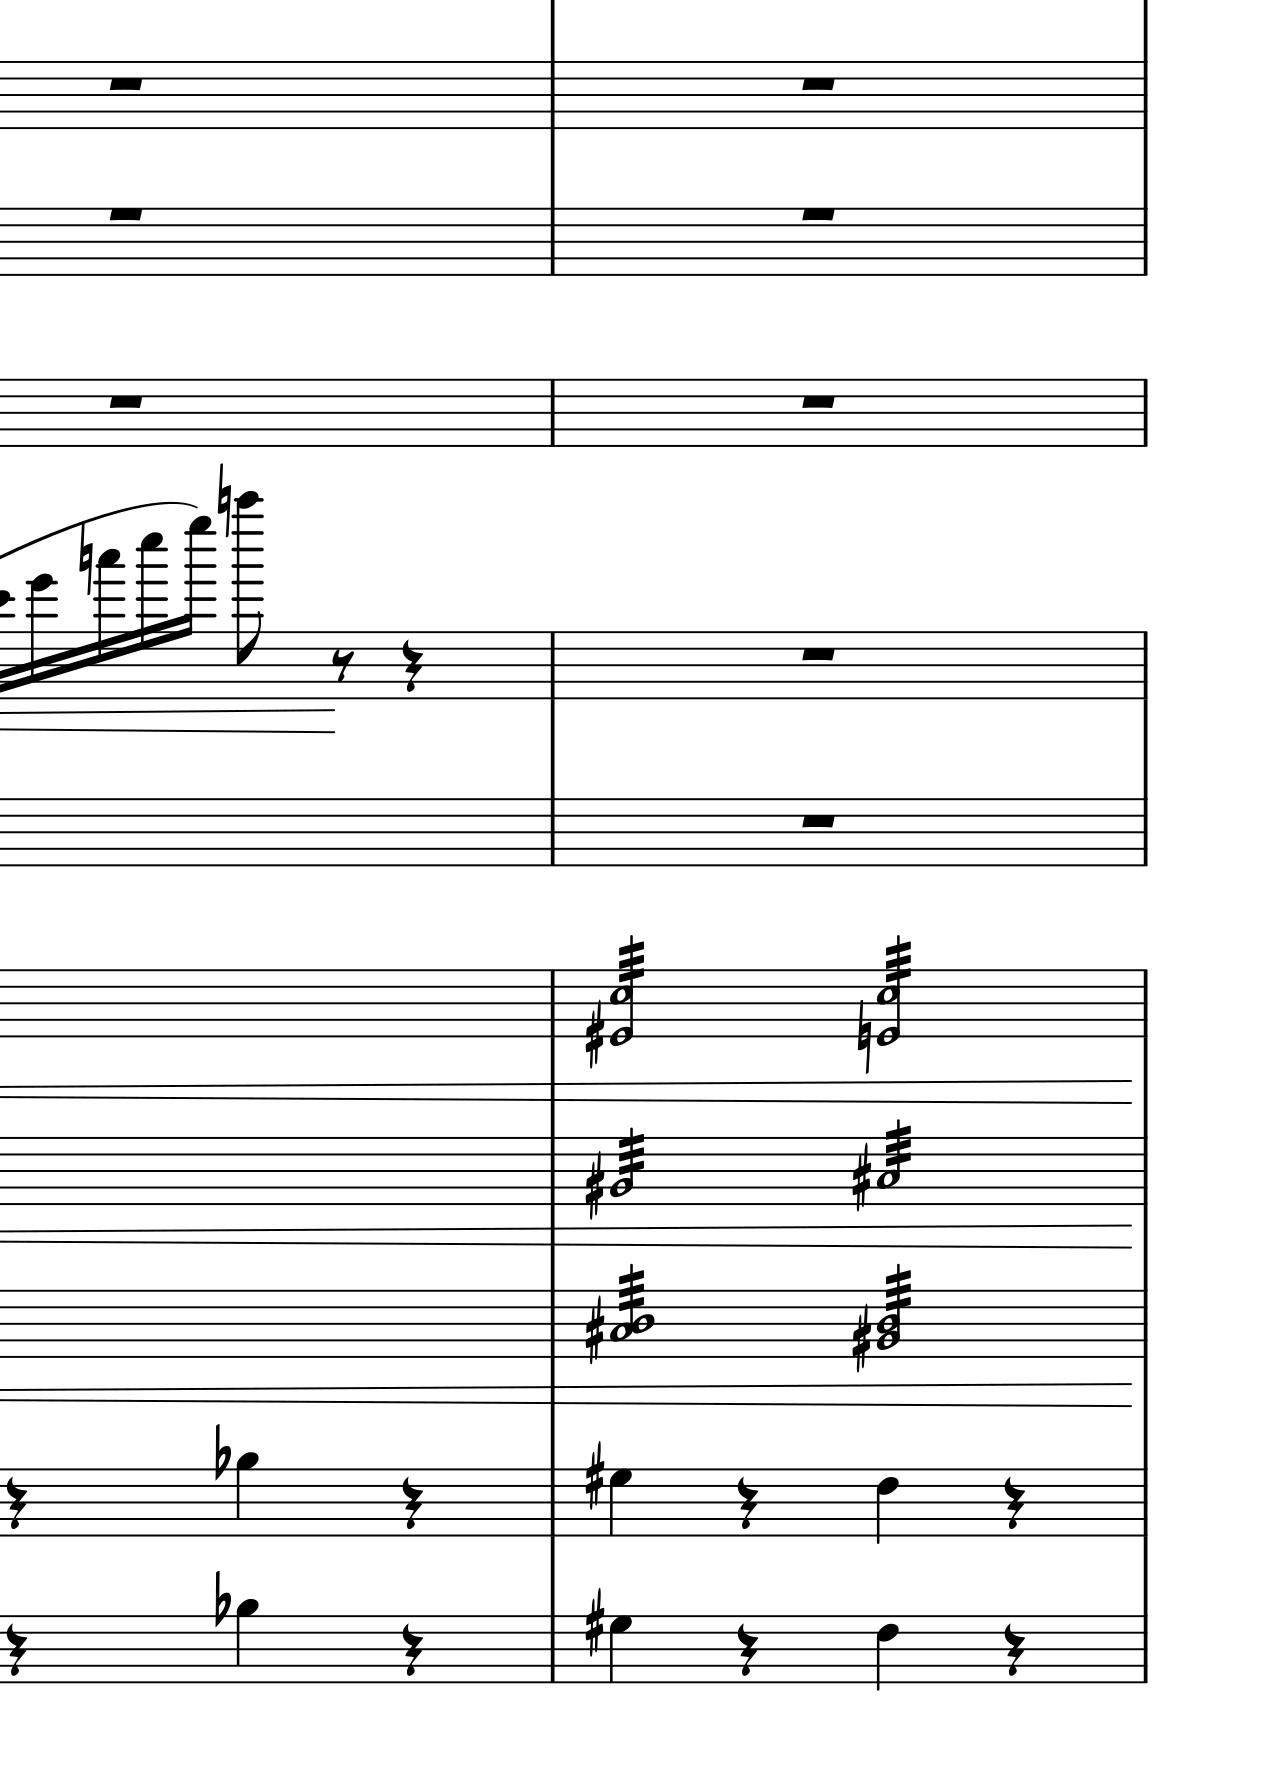16_14: (25, 574, 60, 701)
16_17: (95, 548, 125, 701)
16_19: (134, 531, 169, 701)
4_6: (873, 1467, 900, 1547), (873, 1614, 900, 1692)
4_7: (607, 1466, 635, 1537), (607, 1612, 635, 1684)
4_9: (234, 1597, 258, 1686), (234, 1451, 258, 1538)
Flat: (211, 1422, 230, 1484), (213, 1569, 230, 1629)
Natural: (75, 521, 93, 592), (217, 462, 232, 536), (856, 995, 871, 1069)
Rests1: (797, 203, 839, 226), (797, 388, 839, 411), (104, 388, 145, 411), (104, 73, 147, 95), (797, 73, 839, 95), (104, 204, 147, 226), (797, 642, 839, 664), (797, 809, 838, 831)
Rests4: (734, 1622, 760, 1680), (399, 1622, 424, 1680), (1001, 1622, 1026, 1680), (734, 1475, 758, 1531), (399, 638, 422, 695), (399, 1475, 422, 1531), (4, 1623, 27, 1680), (4, 1477, 27, 1530), (1002, 1475, 1024, 1531)
Rests8: (328, 649, 355, 683)
Sharp: (581, 1440, 603, 1511), (581, 1588, 603, 1658), (583, 1149, 603, 1220), (583, 1296, 603, 1366), (849, 1303, 869, 1372), (850, 1142, 869, 1212), (586, 1000, 603, 1065)
Single_barline: (1133, 378, 1155, 447), (542, 1290, 564, 1357), (542, 1138, 564, 1204), (1133, 1470, 1155, 1536), (542, 378, 562, 447), (542, 60, 562, 128), (542, 208, 562, 276), (1133, 208, 1153, 276), (542, 1468, 562, 1536), (543, 632, 564, 698), (542, 799, 562, 865), (542, 971, 562, 1037), (1134, 1292, 1155, 1357), (1134, 1617, 1155, 1682), (1134, 60, 1153, 129), (1134, 631, 1153, 698), (1134, 799, 1153, 867), (1134, 1138, 1153, 1205), (543, 1617, 562, 1681), (1135, 969, 1153, 1037)
Stem: (876, 1117, 915, 1205), (607, 1127, 647, 1205)
